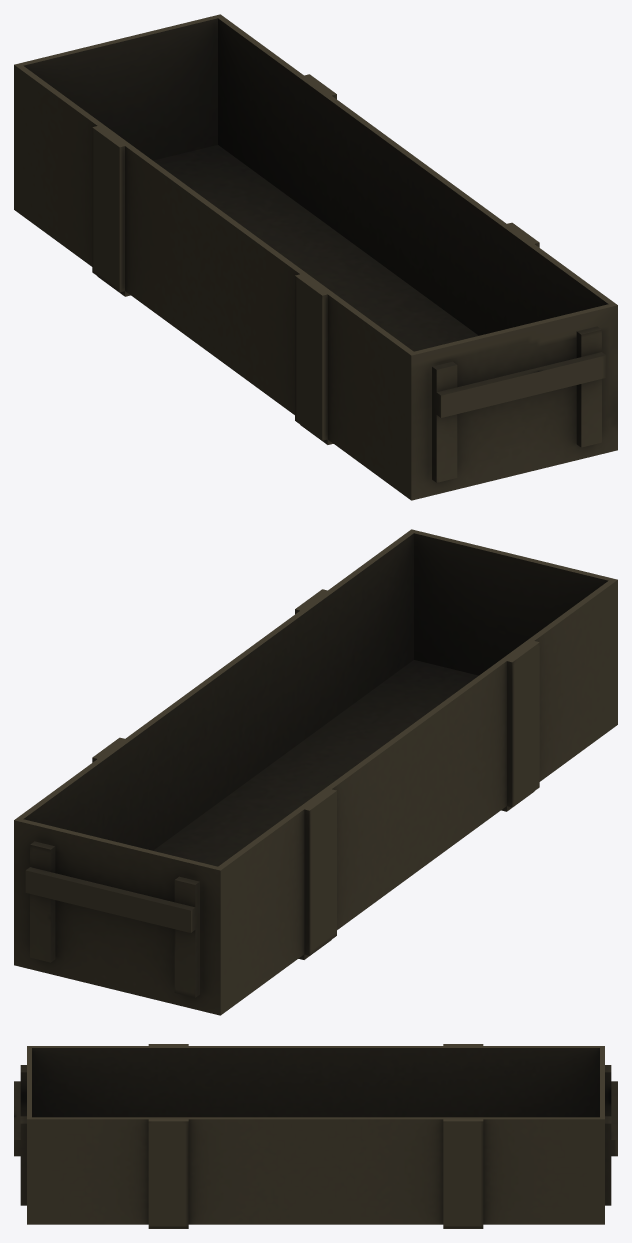
The model's file is Crate_Long.fbx.
3 renders of one model, top to bottom at view 1: azimuth 30°, elevation 25°; view 2: azimuth 150°, elevation 25°; view 3: azimuth 270°, elevation 25°, orthographic. The views are drawn at different scales.
Parts seen in each view (by area): view 1: Crate_Long; view 2: Crate_Long; view 3: Crate_Long.
Part boxes in pixels (bbox=[...]): Crate_Long: bbox=[14, 14, 617, 500]; Crate_Long: bbox=[14, 529, 617, 1015]; Crate_Long: bbox=[14, 1044, 617, 1228].
Size of the model in its own units: 0.7897 by 0.5233 by 2.61.
